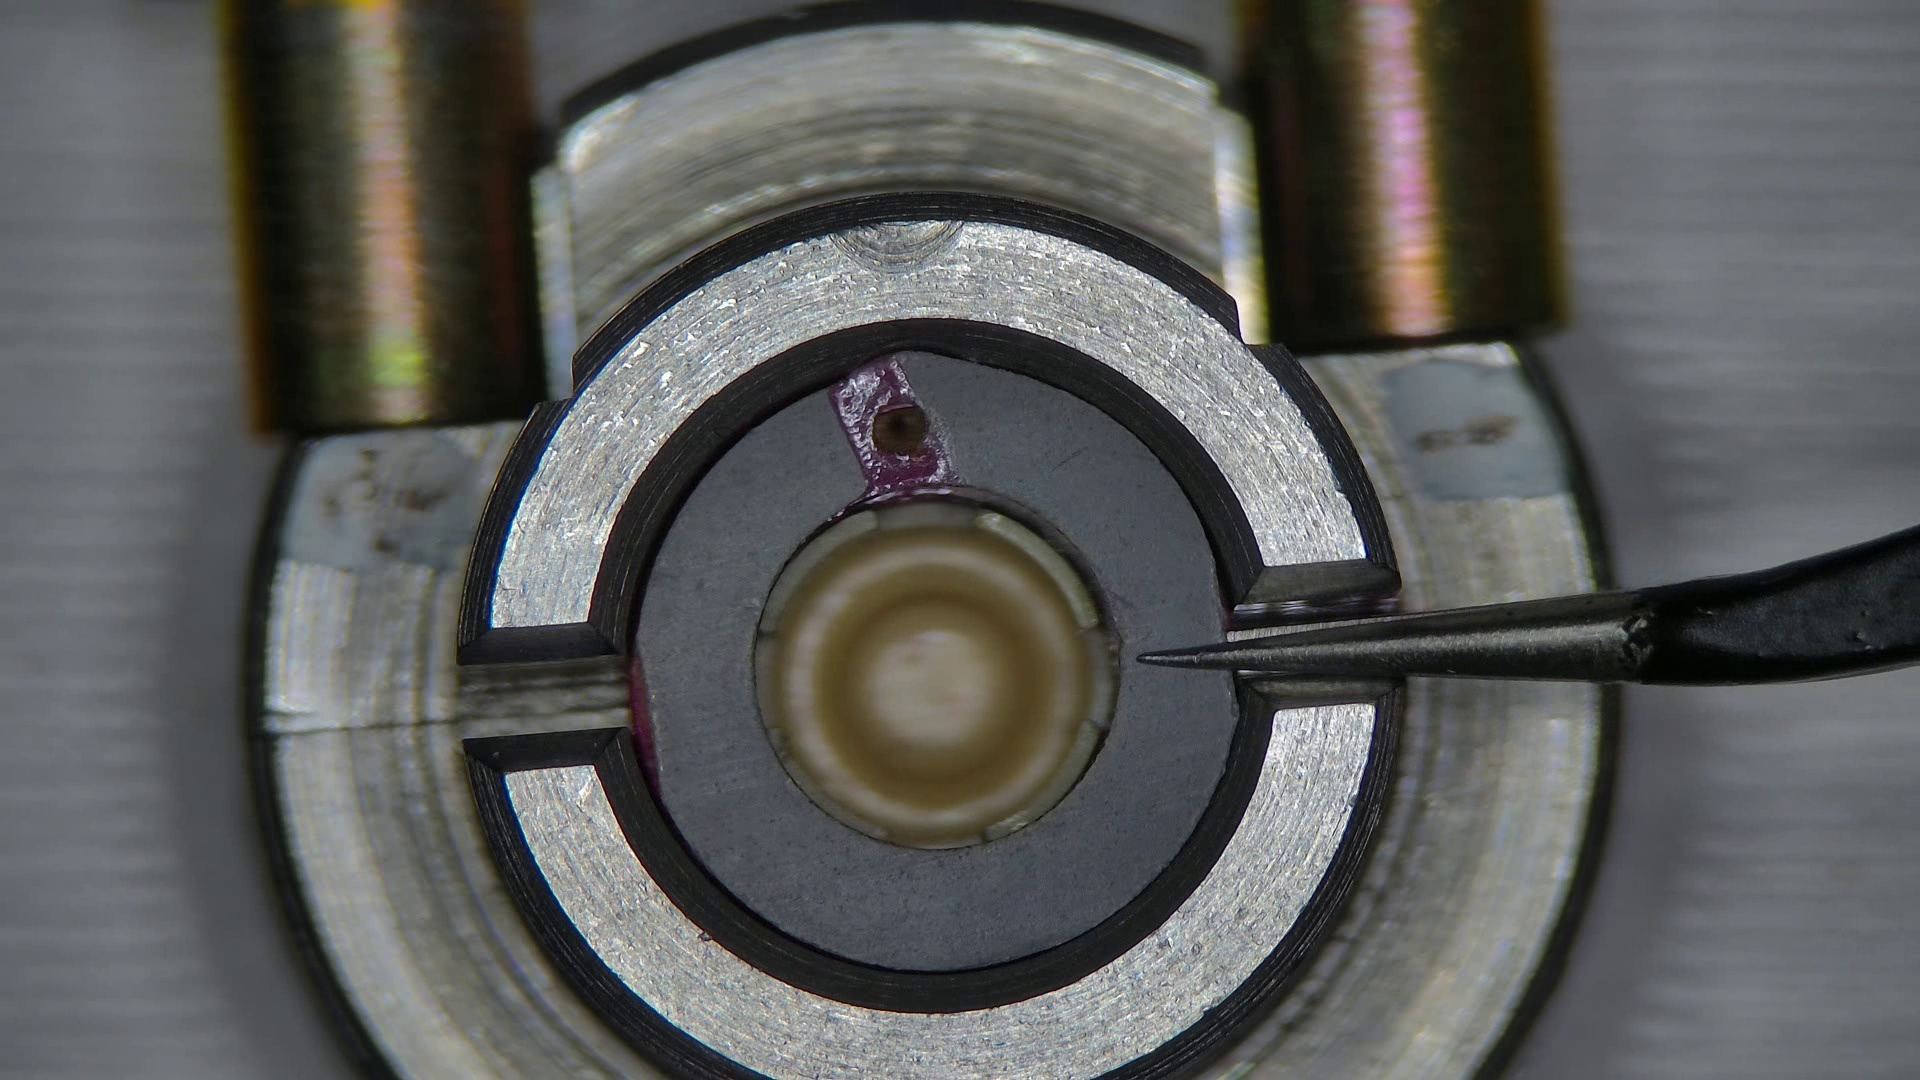YellowOring: (638, 352, 1228, 973)
